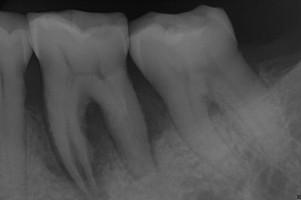Dental Caries: (25, 96, 92, 200), (86, 99, 124, 199)
Endo-Periodontal Lesion: (208, 99, 220, 117)
